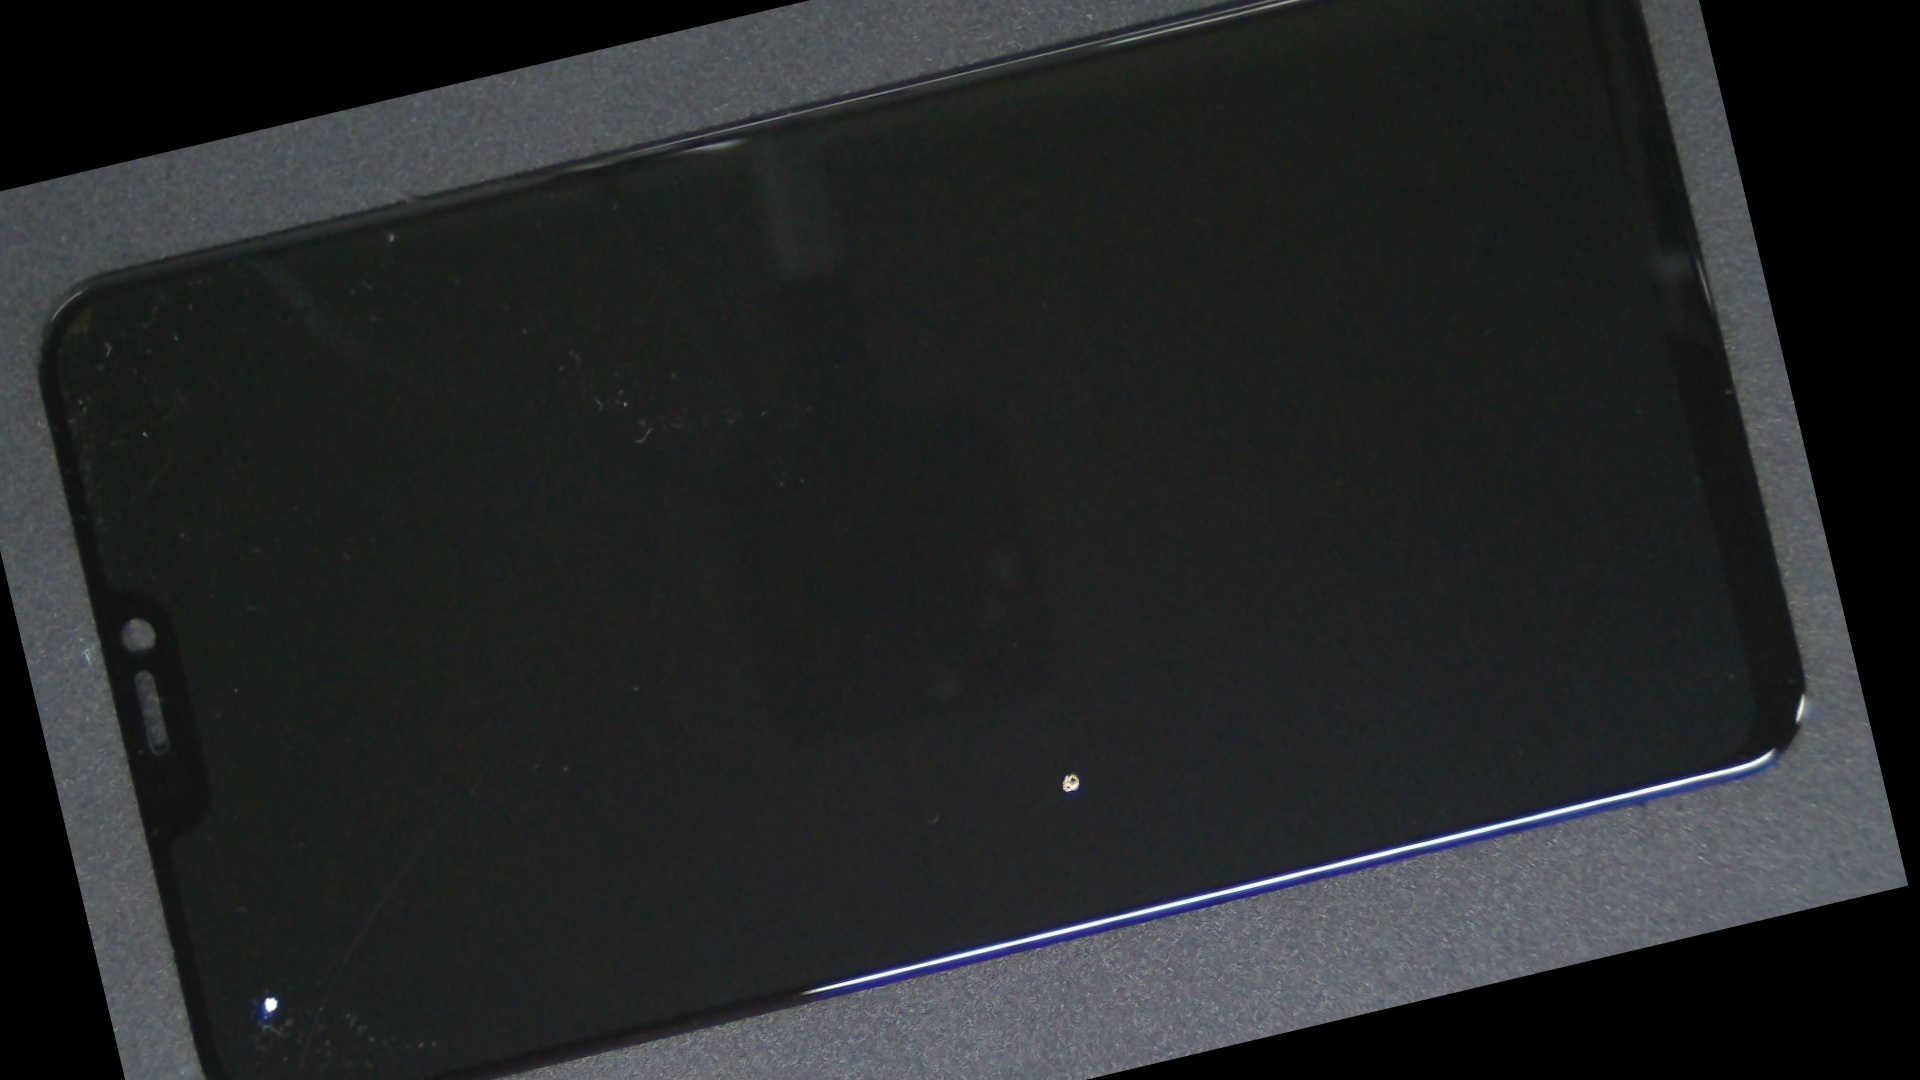oil: (497, 261, 1627, 1080), (92, 568, 400, 1080)
